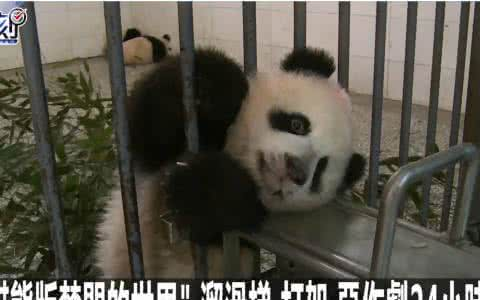panda: (90, 42, 375, 279)
